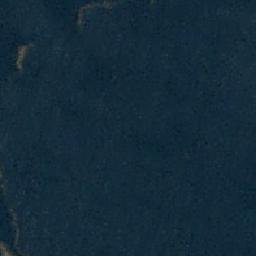debris: (5, 207, 22, 247), (11, 46, 32, 70), (75, 2, 97, 24)
